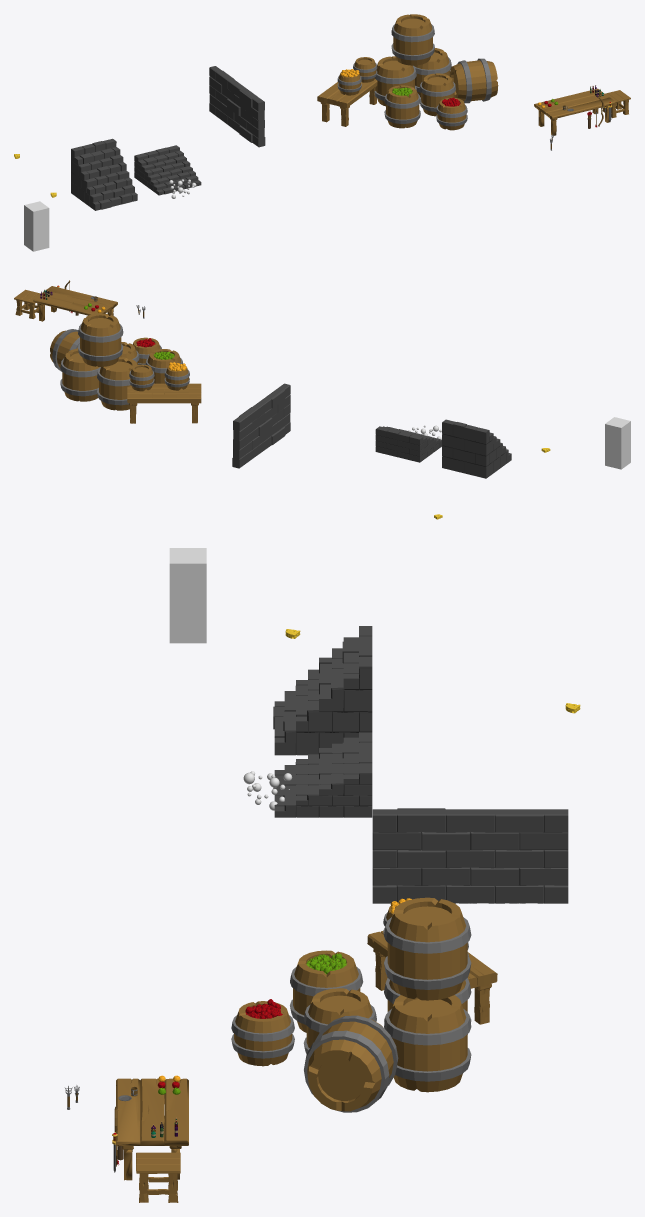
Rendered from Stairs_stone_2x2x1.fbx.
The picture shows the model from 3 angles, top to bottom: view 1: azimuth 30°, elevation 25°; view 2: azimuth 150°, elevation 25°; view 3: azimuth 270°, elevation 25°; orthographic projection. The views are drawn at different scales.
Visible parts, largest first — view 1: Test stairs.001, Wall_Stone.001, Test stairs.003, Barrel2.006, Barrel2.001, Table.003, Barrel2.002, Barrel2.004, Player, Table.001, Barrel2.003, Barrel1.002 (+4 smaller); view 2: Wall_Stone.001, Test stairs.001, Barrel2.006, Test stairs.003, Barrel2.005, Table.001, Barrel2.004, Table.003, Player, Barrel2.001, Barrel2.002, Barrel1.003 (+3 smaller); view 3: Wall_Stone.001, Test stairs.001, Barrel2.006, Barrel2.001, Barrel2.005, Test stairs.003, Table.003, Player, Barrel1.002, Barrel2.002, Barrel2.003, Table.001 (+1 smaller).
Boxes of the visible parts, bbox=[...] form: Test stairs.001: bbox=[71, 138, 137, 210]; Wall_Stone.001: bbox=[209, 66, 265, 147]; Test stairs.003: bbox=[134, 145, 201, 195]; Barrel2.006: bbox=[391, 14, 434, 65]; Barrel2.001: bbox=[450, 58, 498, 103]; Table.003: bbox=[534, 88, 615, 135]; Barrel2.002: bbox=[384, 85, 420, 128]; Barrel2.004: bbox=[374, 56, 416, 106]; Player: bbox=[24, 201, 49, 251]; Table.001: bbox=[317, 79, 377, 126]; Barrel2.003: bbox=[419, 73, 455, 116]; Barrel1.002: bbox=[436, 97, 467, 130]; Wall_Stone.001: bbox=[232, 383, 290, 468]; Test stairs.001: bbox=[442, 419, 511, 478]; Barrel2.006: bbox=[78, 313, 123, 366]; Test stairs.003: bbox=[375, 426, 442, 462]; Barrel2.005: bbox=[60, 348, 100, 401]; Table.001: bbox=[127, 383, 201, 423]; Barrel2.004: bbox=[97, 357, 137, 410]; Table.003: bbox=[33, 286, 117, 321]; Player: bbox=[605, 417, 630, 469]; Barrel2.001: bbox=[50, 329, 79, 371]; Barrel2.002: bbox=[145, 349, 183, 383]; Barrel1.003: bbox=[129, 364, 154, 391]; Wall_Stone.001: bbox=[372, 808, 568, 903]; Test stairs.001: bbox=[273, 626, 372, 755]; Barrel2.006: bbox=[384, 897, 471, 1000]; Barrel2.001: bbox=[304, 1015, 398, 1112]; Barrel2.005: bbox=[384, 995, 471, 1092]; Test stairs.003: bbox=[273, 732, 372, 817]; Table.003: bbox=[115, 1078, 188, 1180]; Player: bbox=[169, 548, 206, 643]; Barrel1.002: bbox=[231, 1001, 294, 1066]; Barrel2.002: bbox=[290, 950, 363, 1032]; Barrel2.003: bbox=[303, 988, 376, 1053]; Table.001: bbox=[367, 931, 497, 1024].
Size of the model in its own units: 2780 by 349 by 1053.
